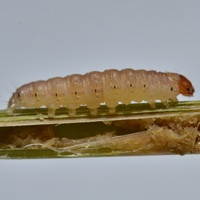insect: (0, 69, 199, 157), (7, 69, 193, 116)
